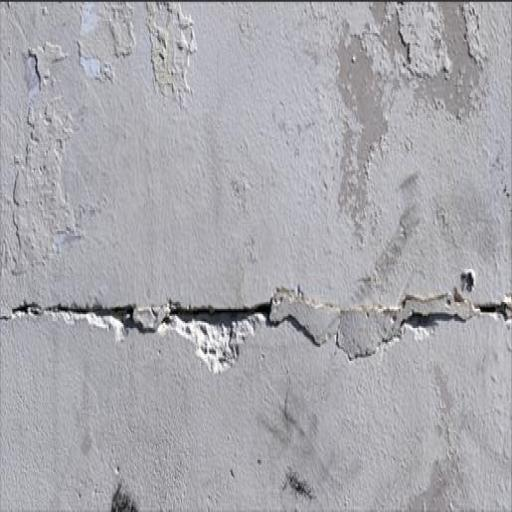spalling: (10, 287, 272, 380)
